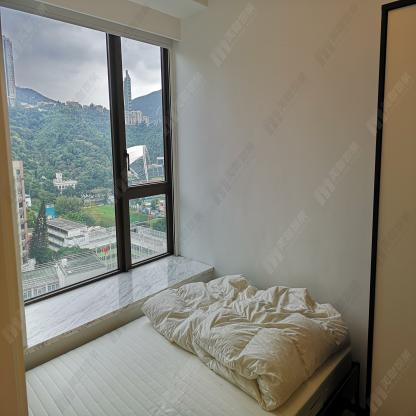Bed: (25, 270, 359, 416)
